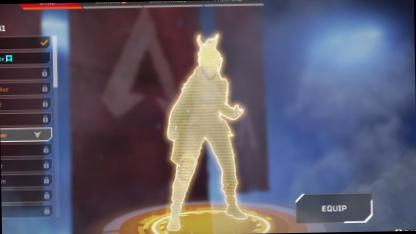Target: (170, 28, 233, 184)
